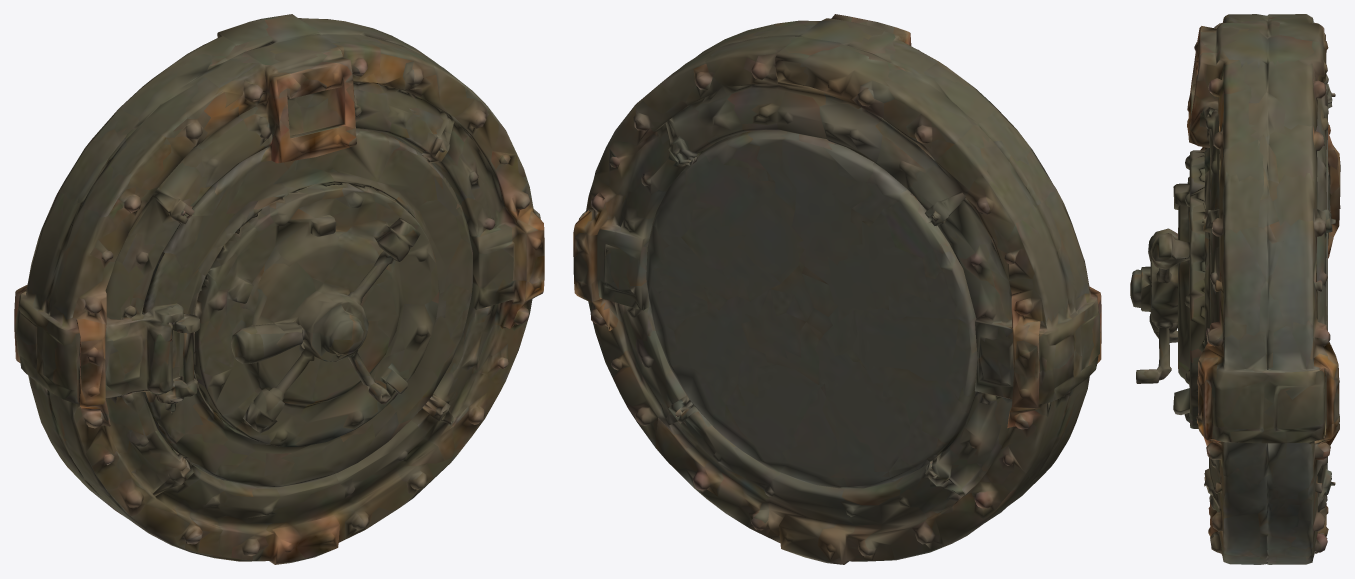
The model's file is bzBlastDoor.5649d3f7.glb.
3 views of the same model, side by side, from view 1: azimuth 30°, elevation 25°; view 2: azimuth 150°, elevation 25°; view 3: azimuth 270°, elevation 25° (orthographic).
Bounding box in the file's own units: 1.9 × 1.9 × 0.7208.
1 material, 1 textured.
